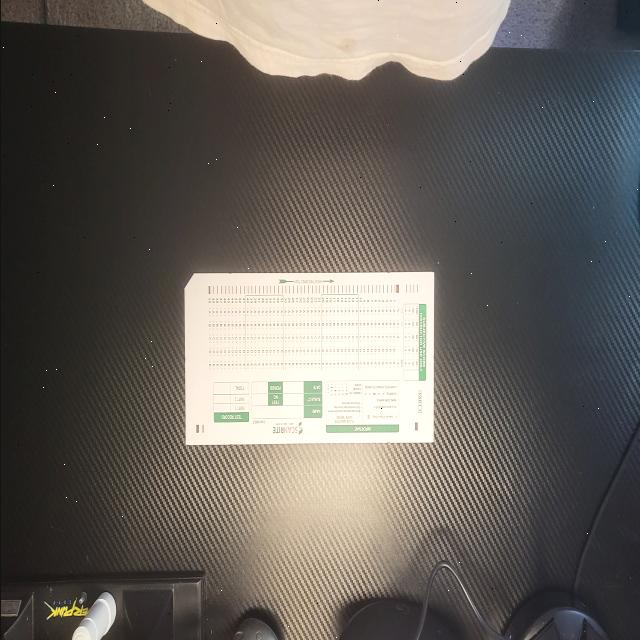scantron: (183, 272, 434, 445)
